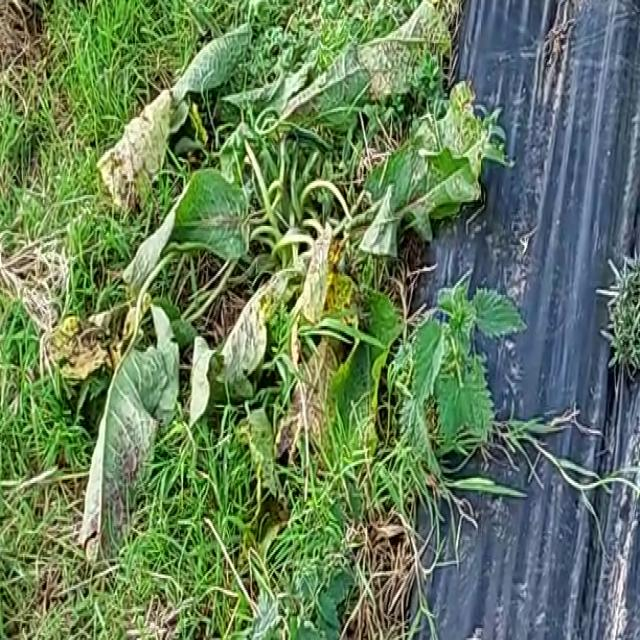organic waste: (68, 21, 491, 566)
